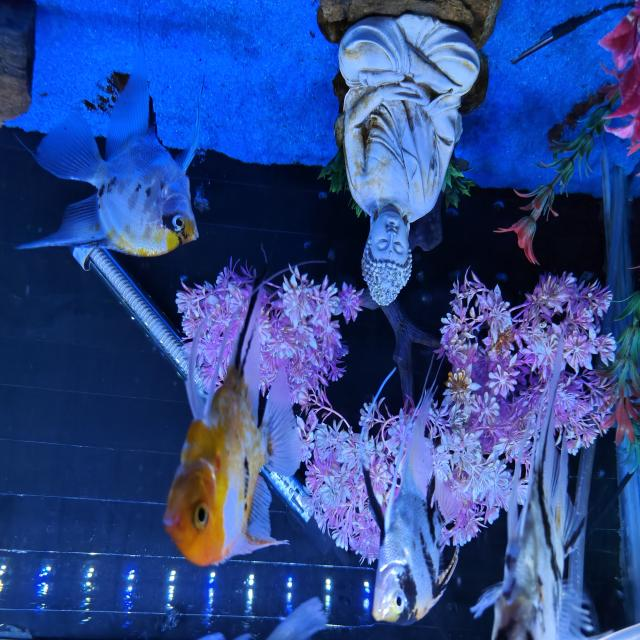Fish: (17, 16, 199, 255), (164, 283, 301, 564), (472, 334, 588, 639), (363, 381, 459, 623), (267, 597, 326, 639), (194, 183, 209, 211)
